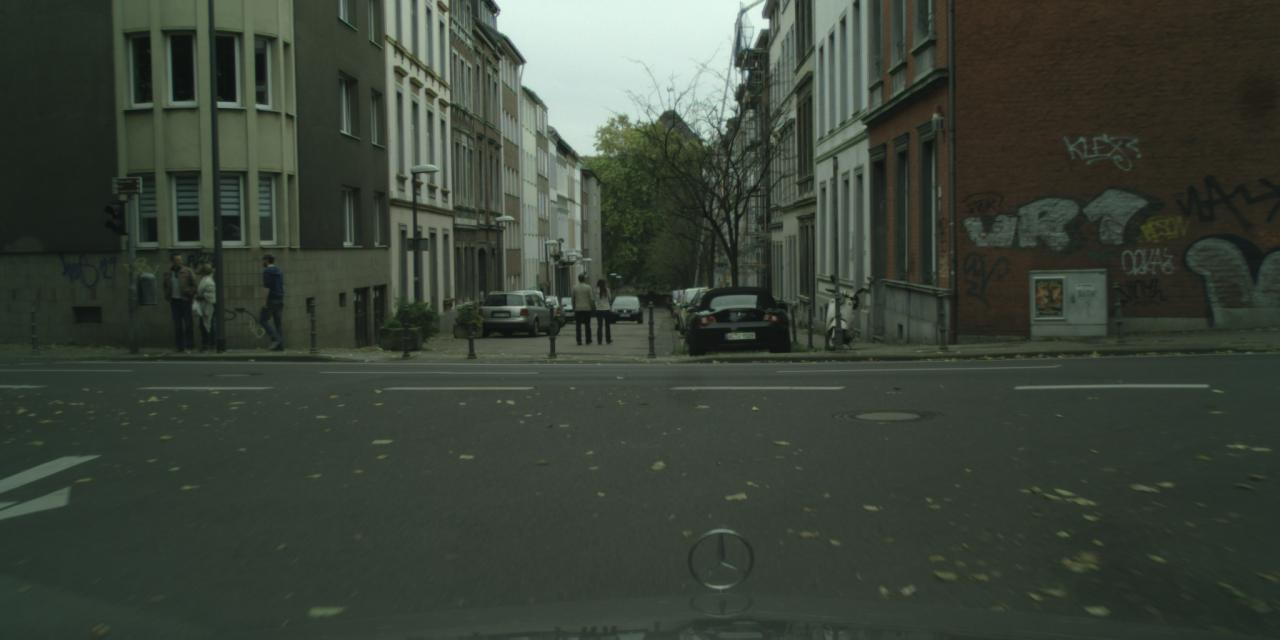ped: (252, 251, 292, 350), (159, 253, 199, 350), (188, 263, 224, 350), (568, 274, 596, 344), (588, 278, 616, 344)
